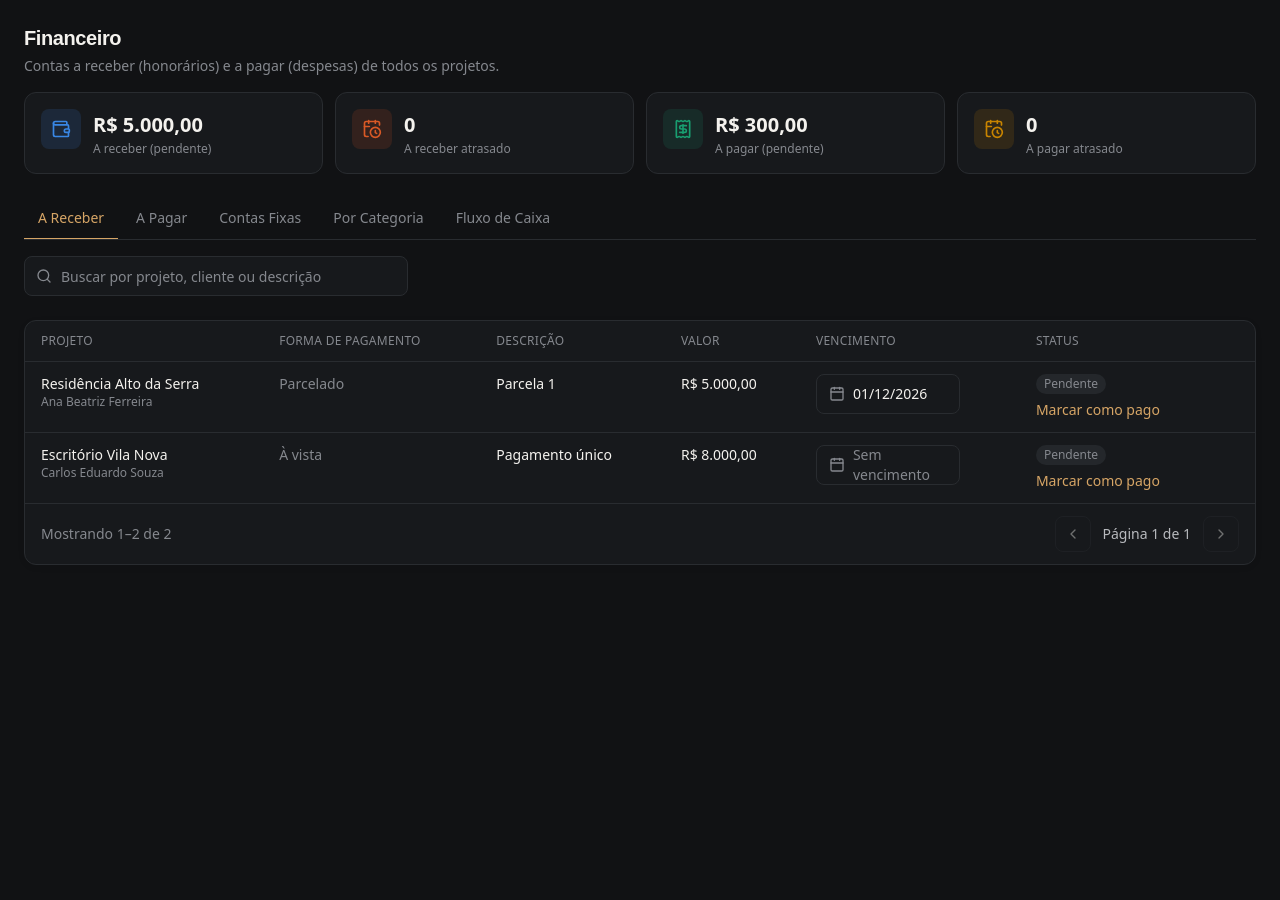
Test case: FinancialPage › switches to the Fluxo de Caixa tab, hiding the search/table of the other tabs
The width and height of the screenshot is (1280, 900).
Expected: the text "Parcela 1" is shown, [496,374,556,394]
Click the button "Fluxo de Caixa" at point(503, 219), box [442,198,564,240]
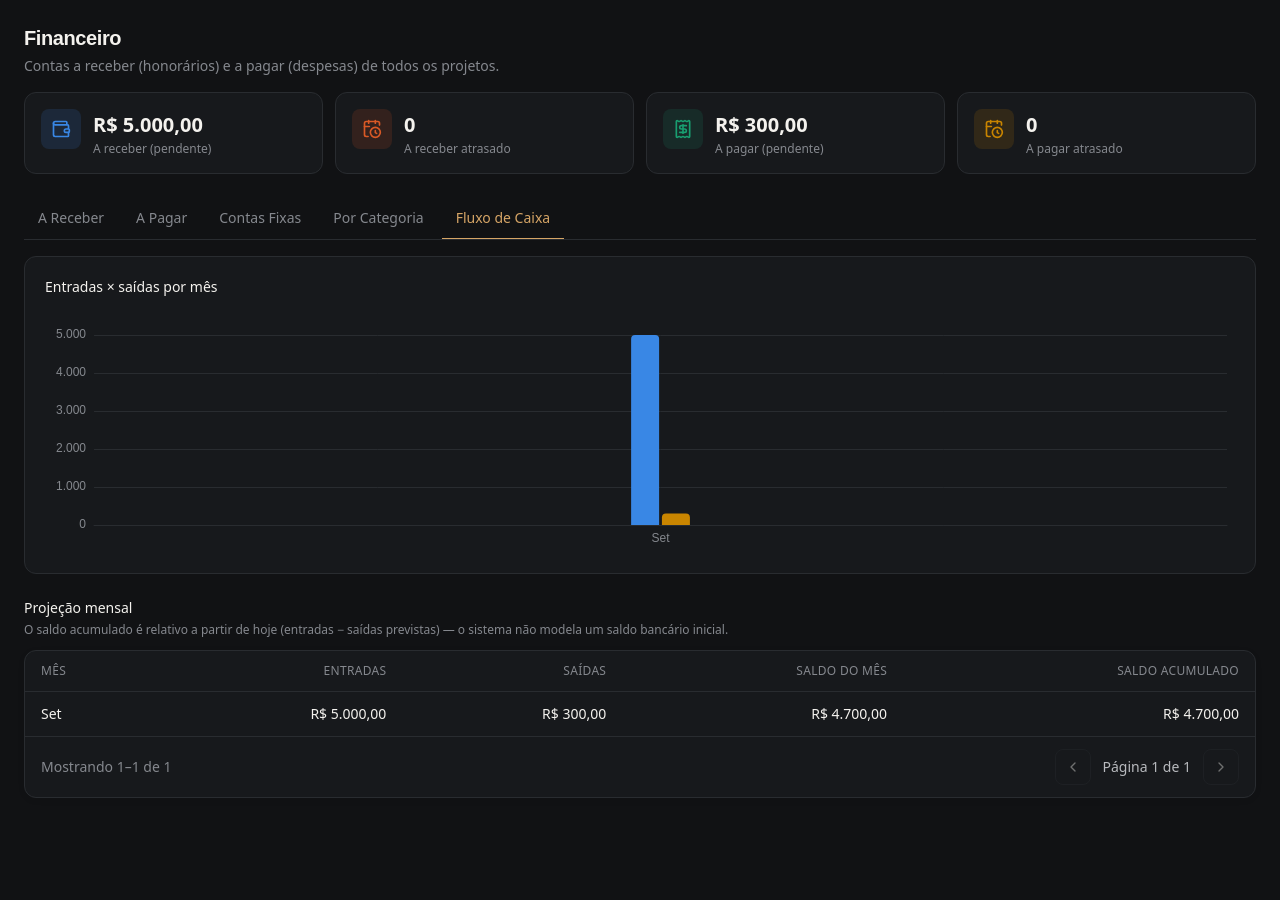
Expected: the field with placeholder "Buscar por projeto, cliente ou descrição" is not shown
Expected: the text "Set" is shown, [41,704,62,723]
Expected: the text "Parcela 1" is gone
